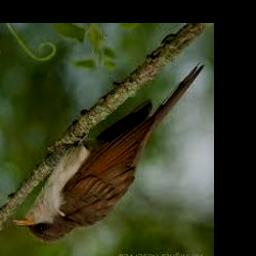Cuckoo: (14, 62, 206, 243)
